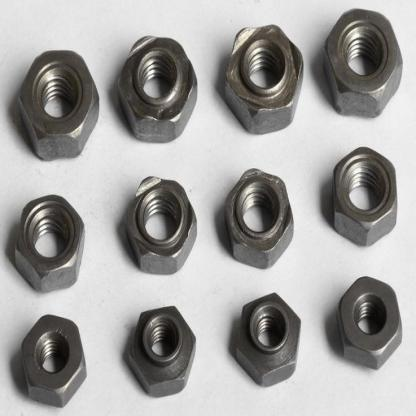FOD: (221, 21, 304, 138), (16, 48, 100, 161), (116, 35, 200, 147), (323, 5, 404, 120), (12, 193, 87, 298), (122, 174, 198, 276), (223, 165, 296, 269), (328, 146, 398, 250), (127, 300, 198, 398), (235, 291, 305, 388), (18, 312, 90, 406), (336, 274, 405, 372)
